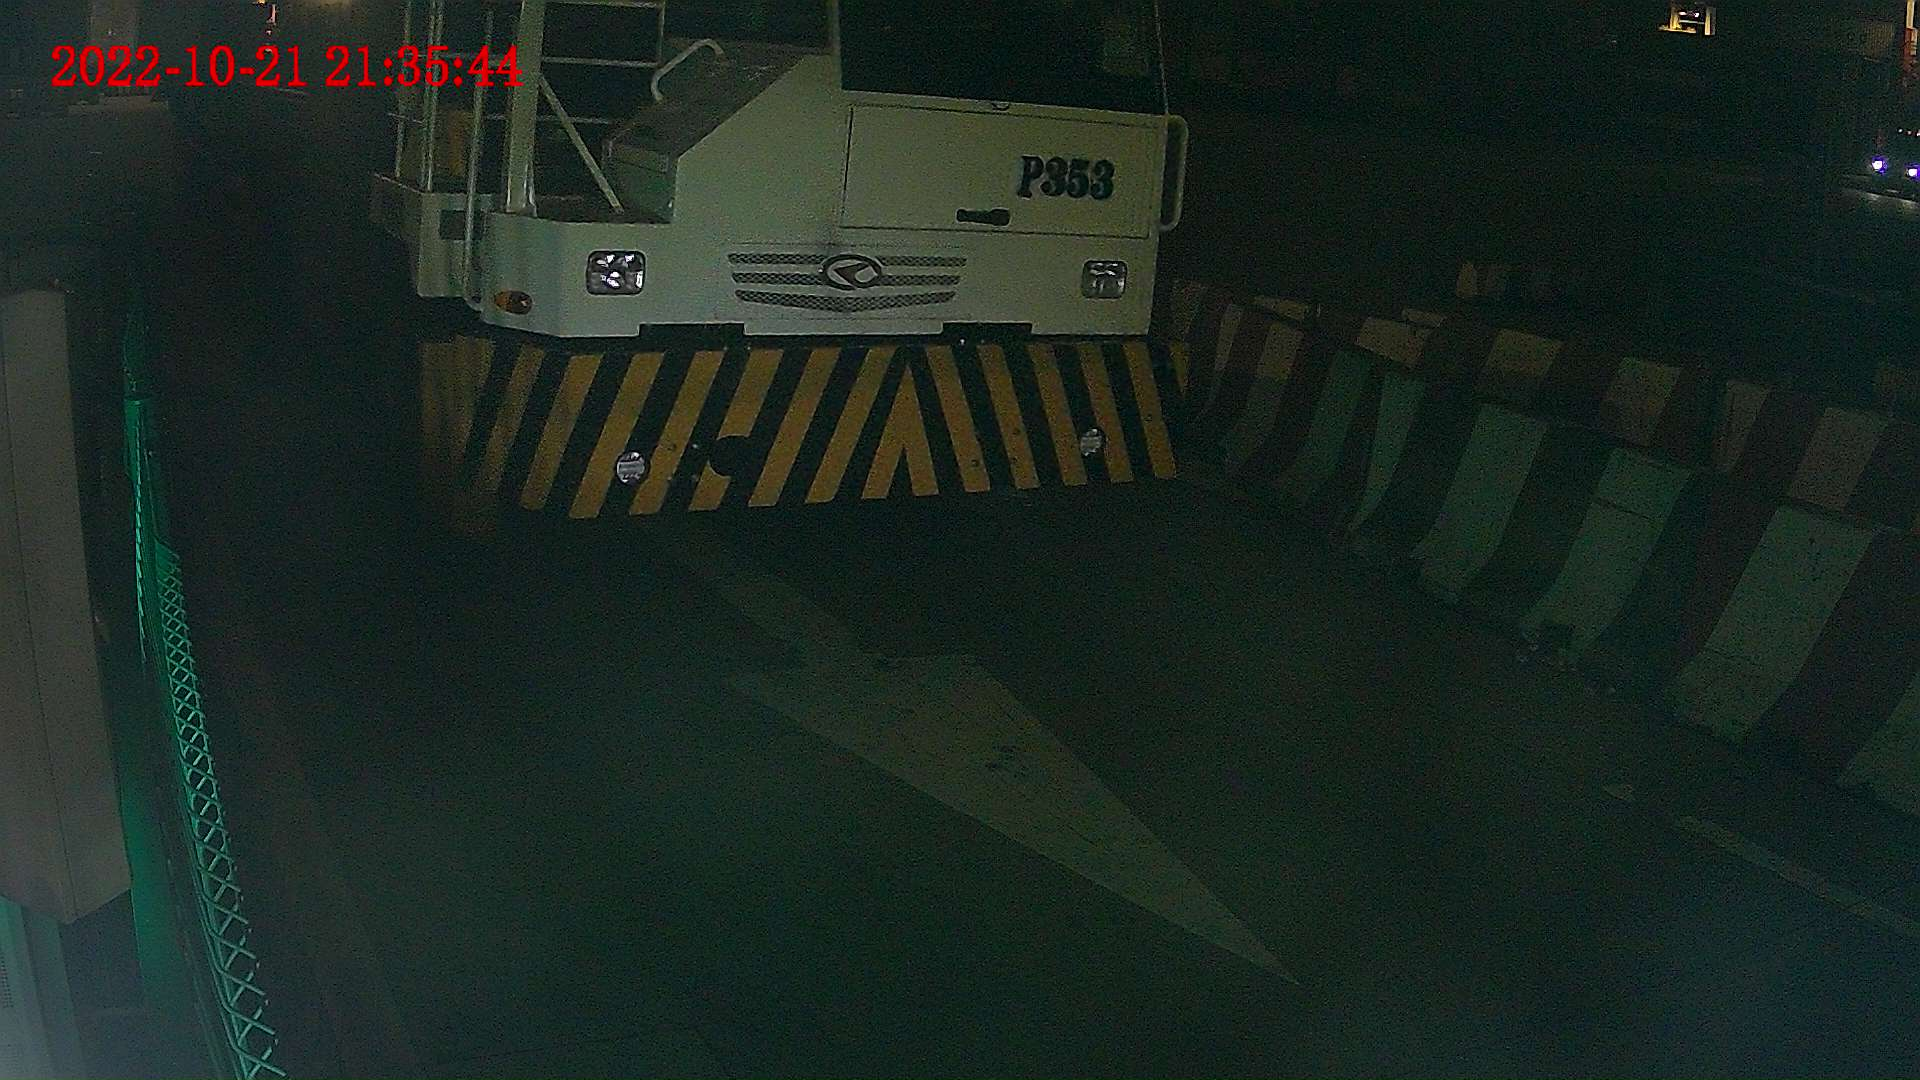head: (383, 1, 1192, 517)
